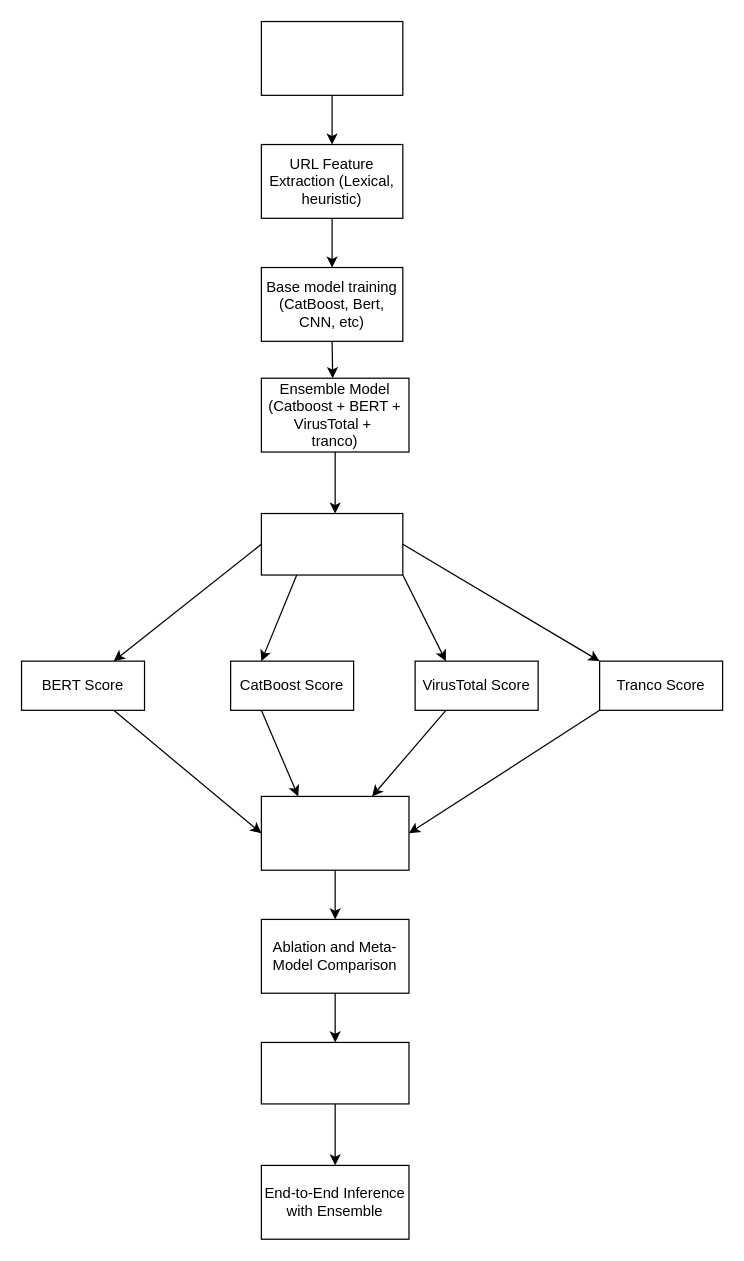
Some shapes in this 744 by 1261 pixel diagram are drawn without their labels. The shapes that lost their labels are listed below. From the top down, each one's centre as x and y in pixels, then its label:
At pixel 331 57: "Kaggle Dataset 1 (822k)".
At pixel 331 543: "Signal Extraction".
At pixel 334 832: "Learned meta-model fusion".
At pixel 334 1072: "Evaluation (Kaggle Dataset 2)".
